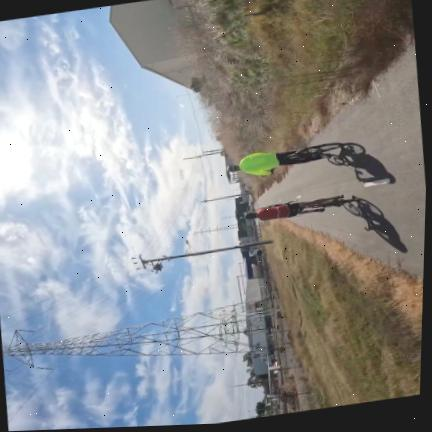Bike_Lane: (258, 45, 426, 275)
